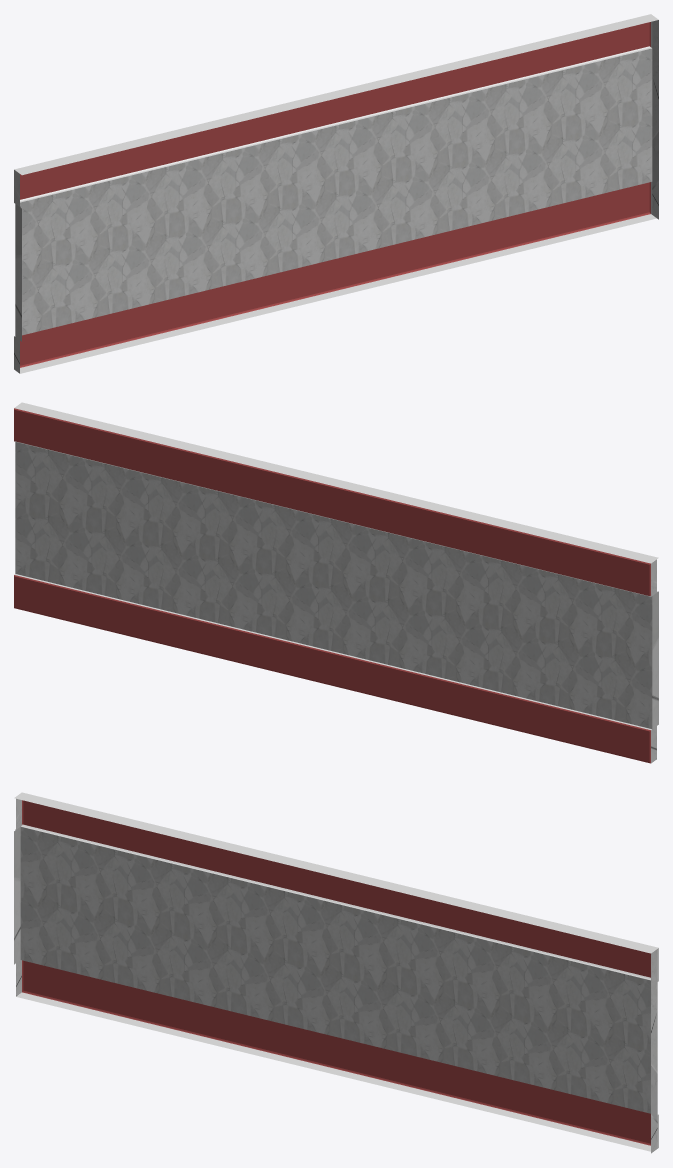
Rendered from Wall02_3.fbx.
The picture shows the model from 3 angles, top to bottom: view 1: azimuth 30°, elevation 25°; view 2: azimuth 150°, elevation 25°; view 3: azimuth 330°, elevation 25°; orthographic projection.
Parts seen in each view (by area): view 1: Wall02_3; view 2: Wall02_3; view 3: Wall02_3.
Boxes of the visible parts, <box> form: Wall02_3: <box>14,14,658,373</box>; Wall02_3: <box>14,402,658,763</box>; Wall02_3: <box>14,792,658,1153</box>.
Size of the model in its own units: 200 by 59.99 by 4.59.
